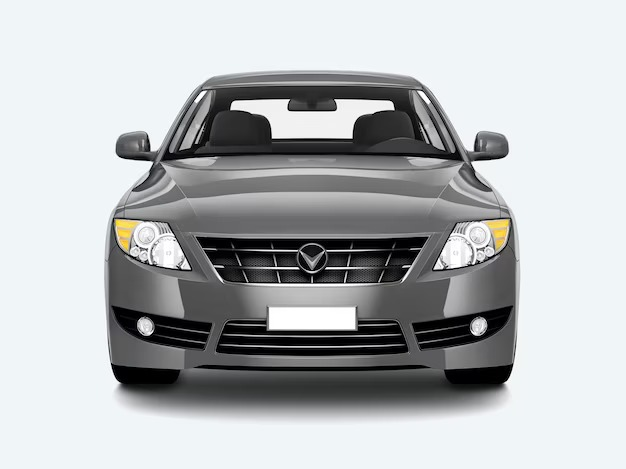car: (93, 68, 527, 386)
